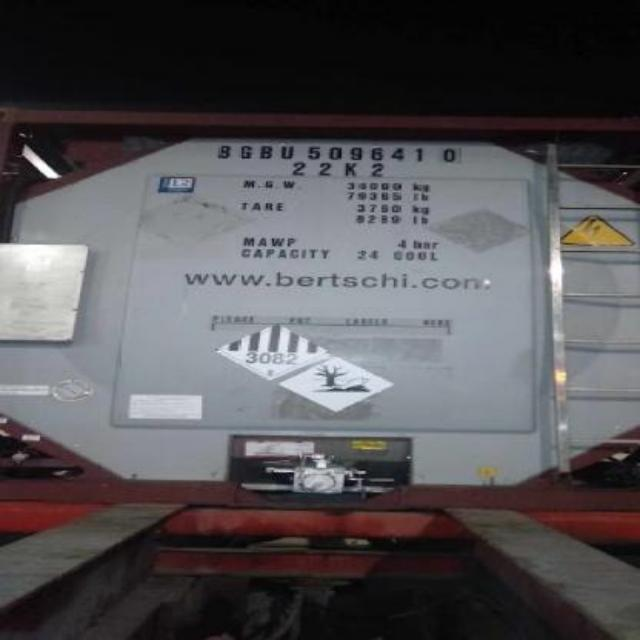0: (436, 144, 466, 164), (322, 140, 342, 162)
1: (410, 138, 428, 172)
4: (384, 140, 408, 167)
5: (304, 138, 322, 164)
6: (366, 141, 384, 165)
9: (346, 140, 366, 163)
B: (254, 138, 274, 164), (212, 140, 232, 164)
G: (230, 140, 252, 163)
U: (278, 141, 294, 161)
